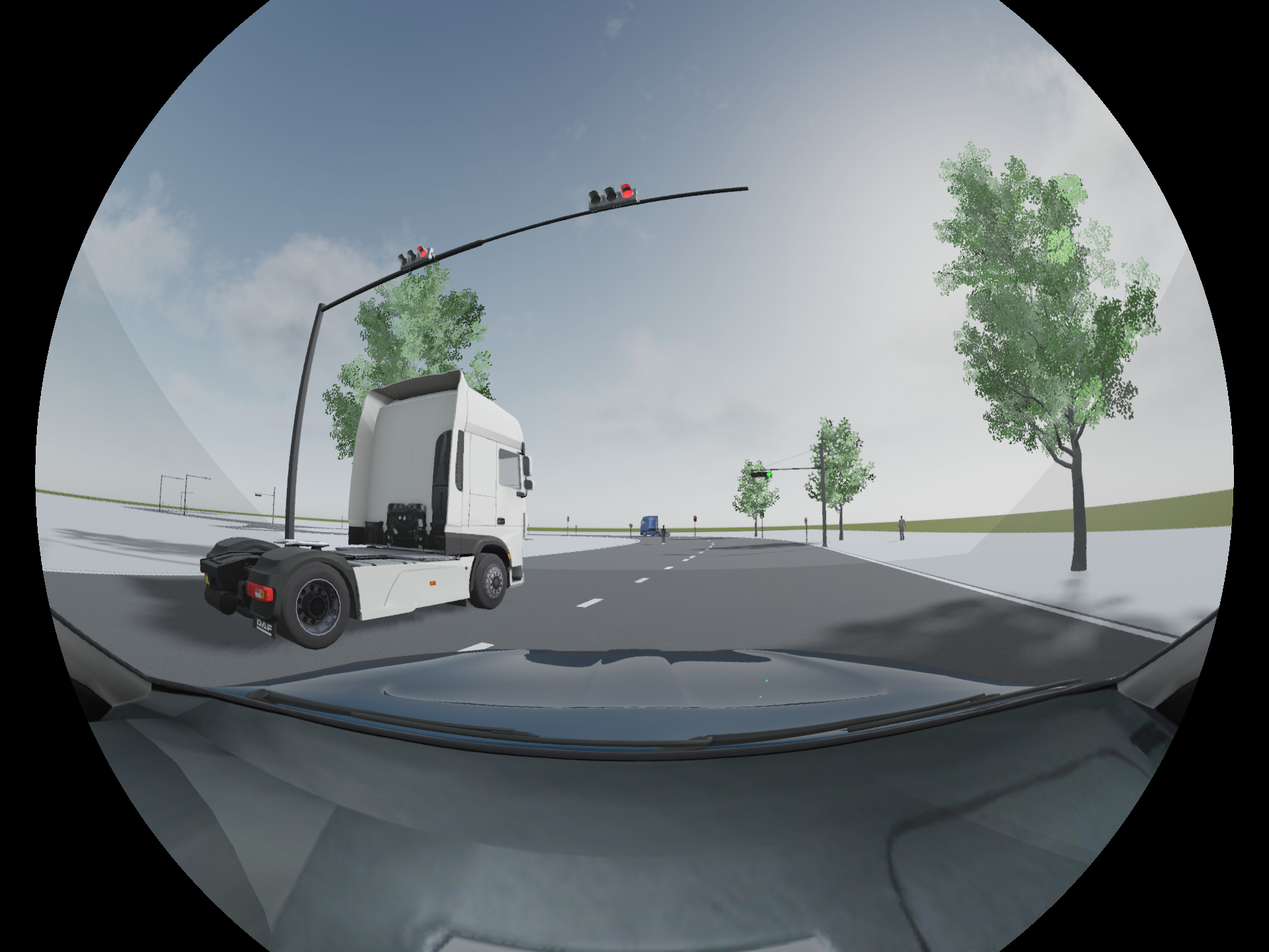Green Light: (750, 469, 772, 479)
Red Light: (587, 184, 640, 212), (397, 248, 435, 266)
